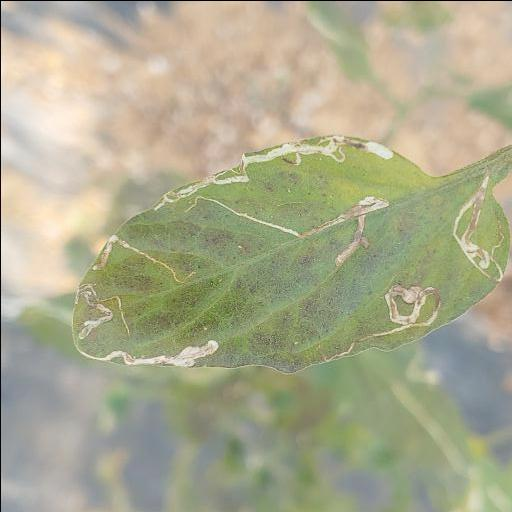disease_tomato: (66, 131, 512, 377)
